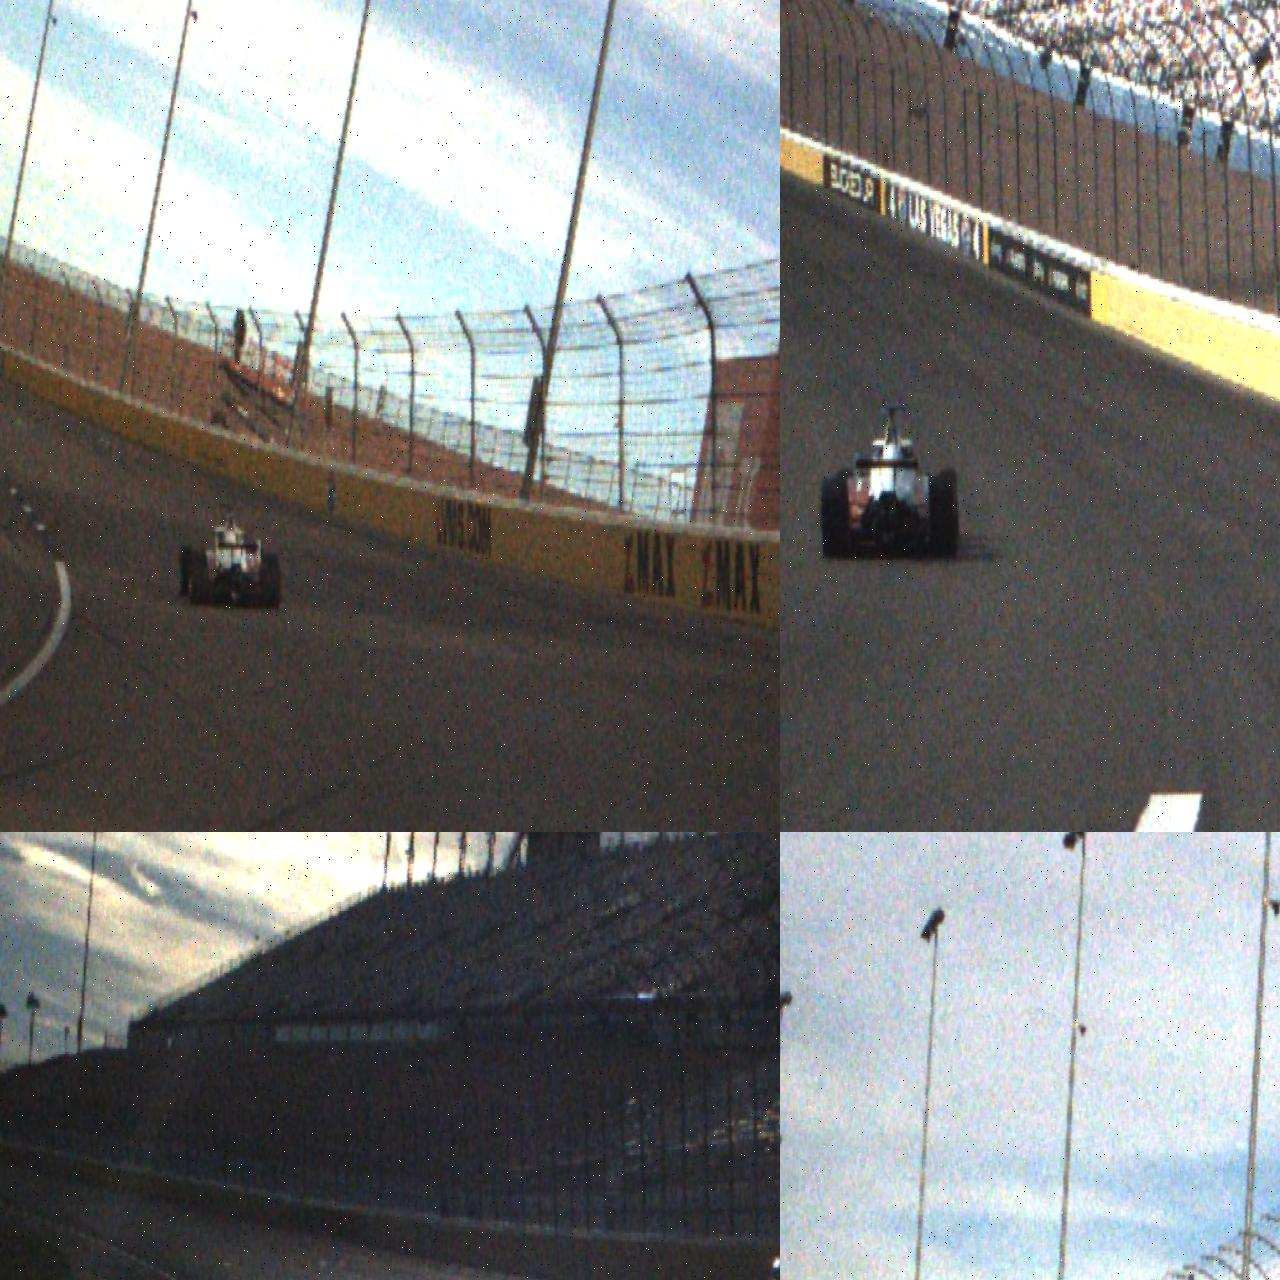AV: (819, 402, 959, 564), (176, 502, 282, 612)
Wheel: (928, 475, 959, 560), (821, 477, 850, 563), (263, 553, 282, 610), (190, 551, 208, 606), (178, 543, 195, 597)
